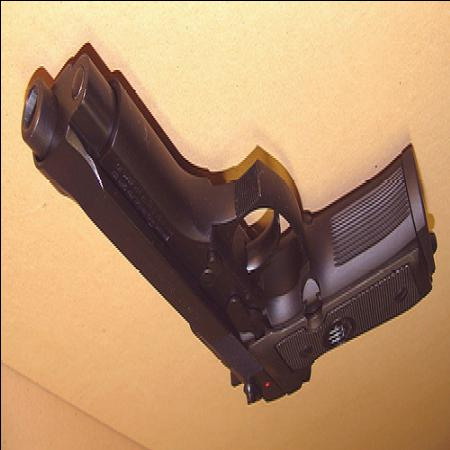Pistol: (22, 46, 438, 423)
